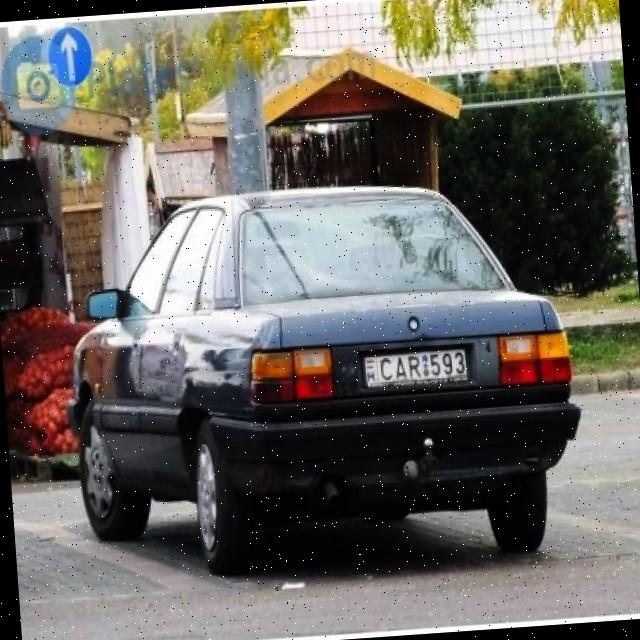licence: (362, 346, 471, 393)
